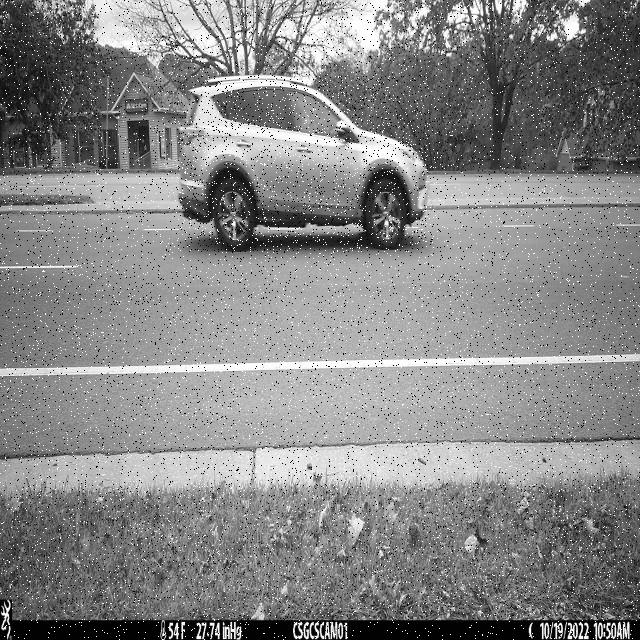SUV: (177, 75, 428, 252)
